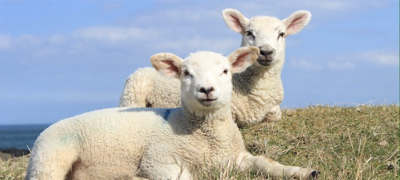koyun: (35, 50, 255, 178), (219, 8, 309, 67)
